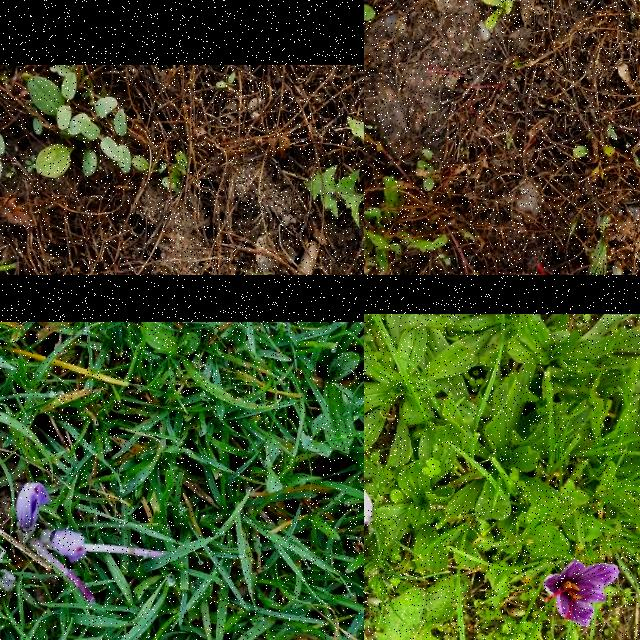flower: (542, 561, 620, 629), (15, 482, 50, 532), (52, 530, 86, 562)
